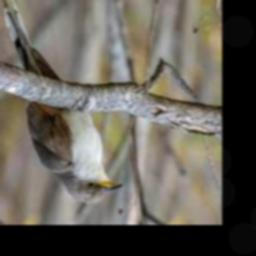Cuckoo: (1, 0, 124, 203)
